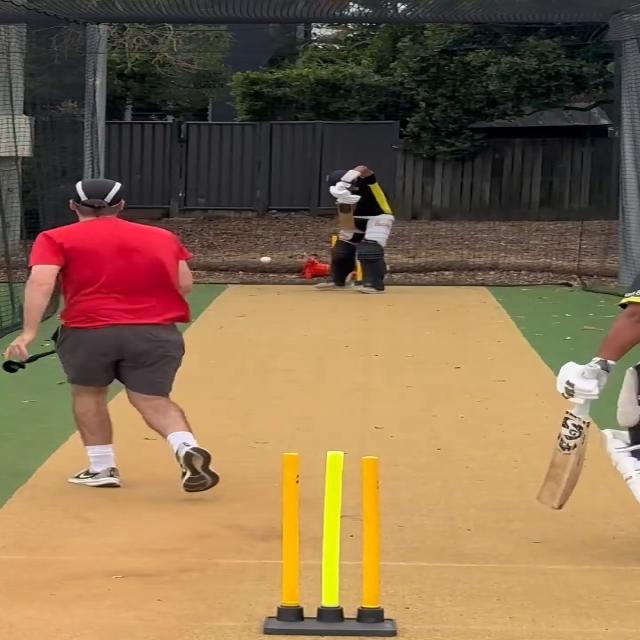ball: (258, 255, 274, 265)
stump: (259, 449, 400, 637)
